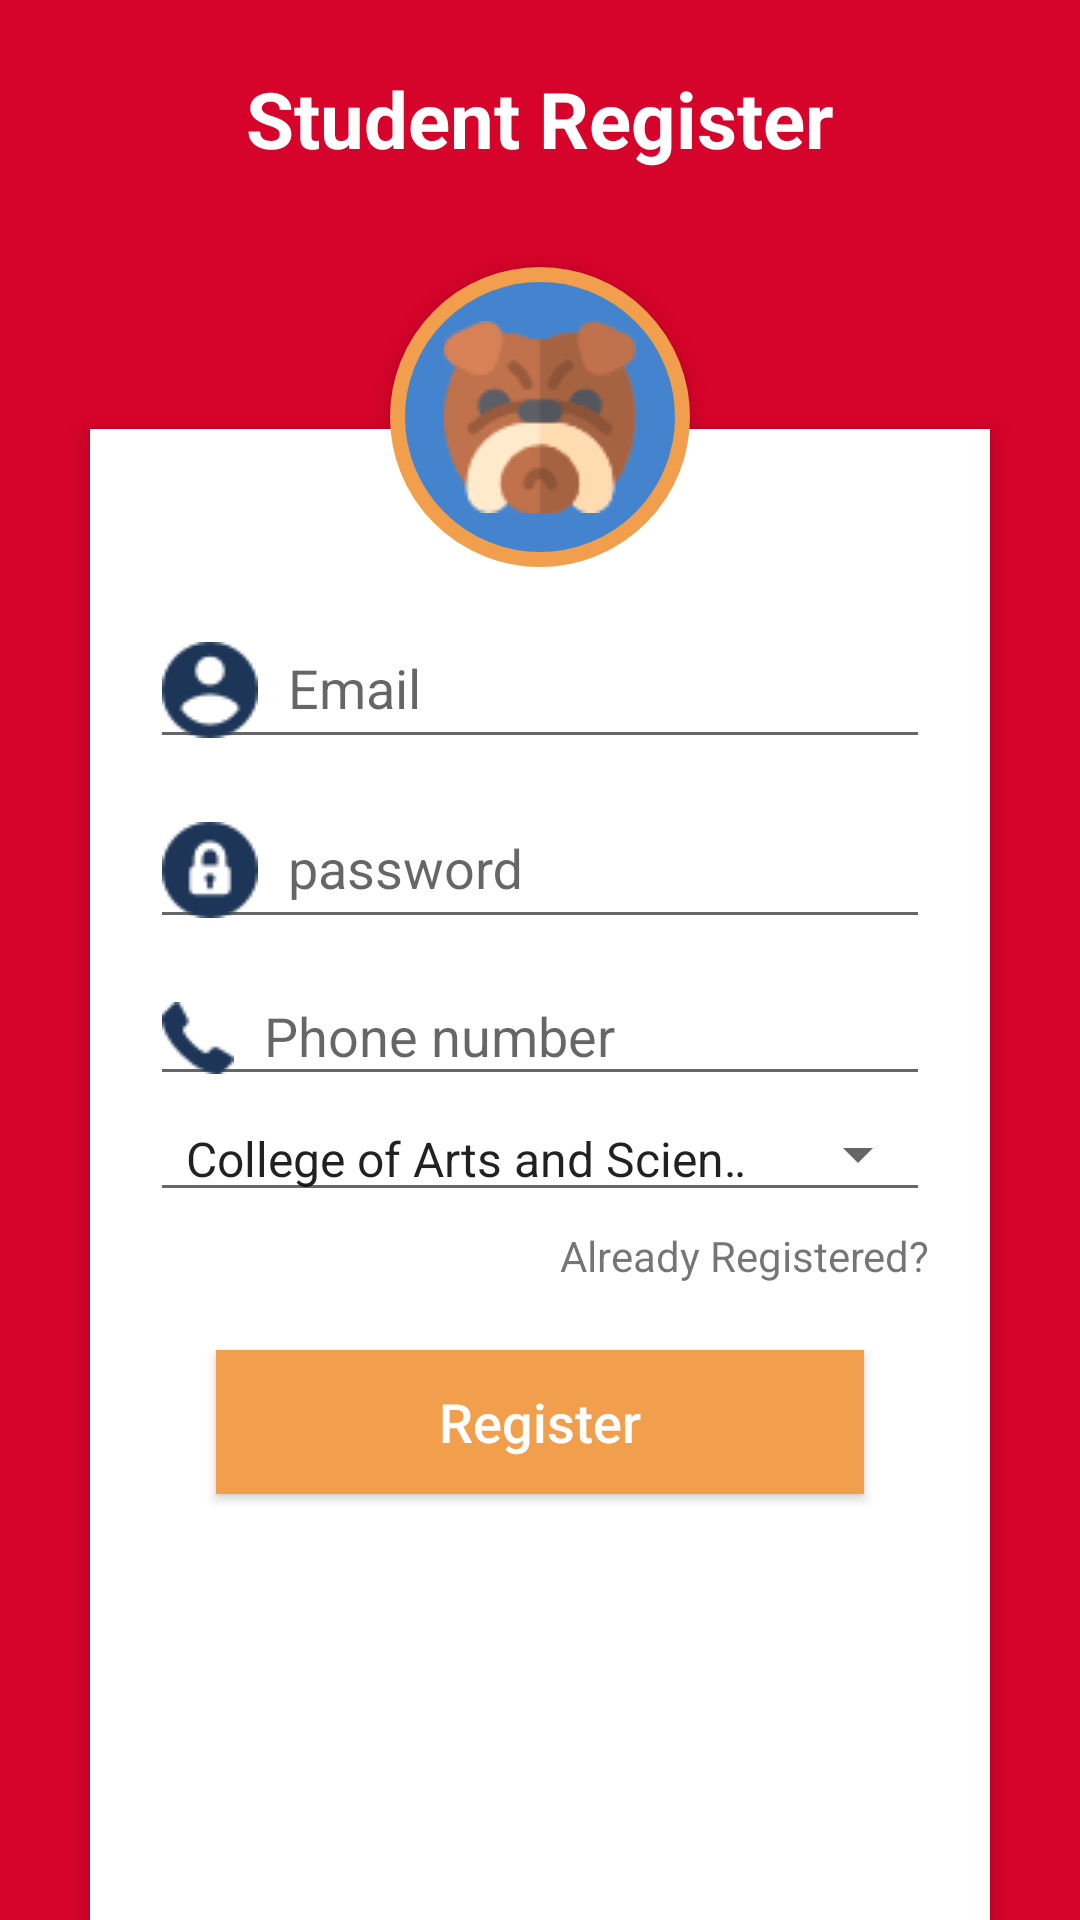

Where to tap for icons on this 1080 × 1920 app screen, as (x,y):
bulldog: (540,417)
